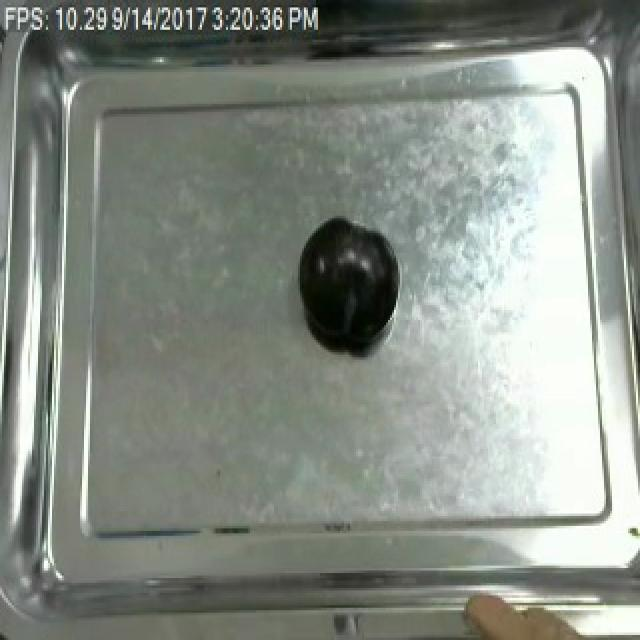Fruit: (294, 213, 398, 350)
